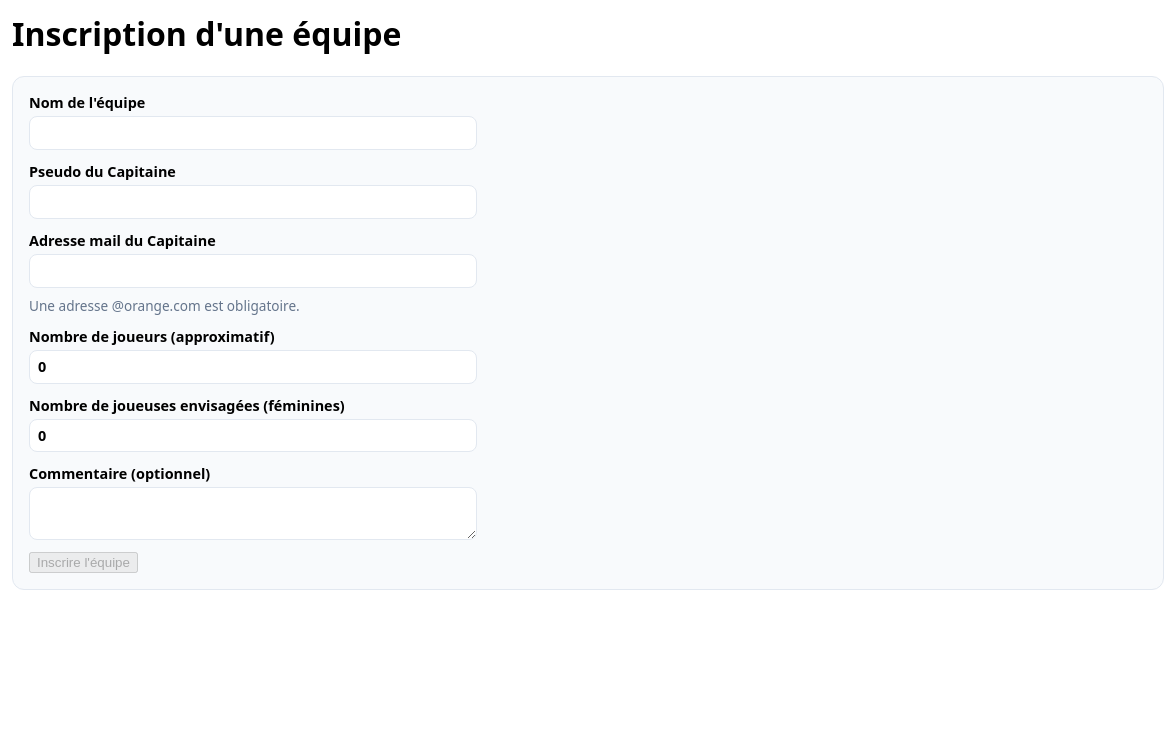
Test case: InscriptionEquipePage › affiche le message de confirmation après succès et ne propose plus de bouton "Inscrire une autre équipe"
Type "Logistique" into the field labelled "Nom de l'équipe".
click(253, 133); type("Logistique")  # box x1=29 y1=116 x2=477 y2=150
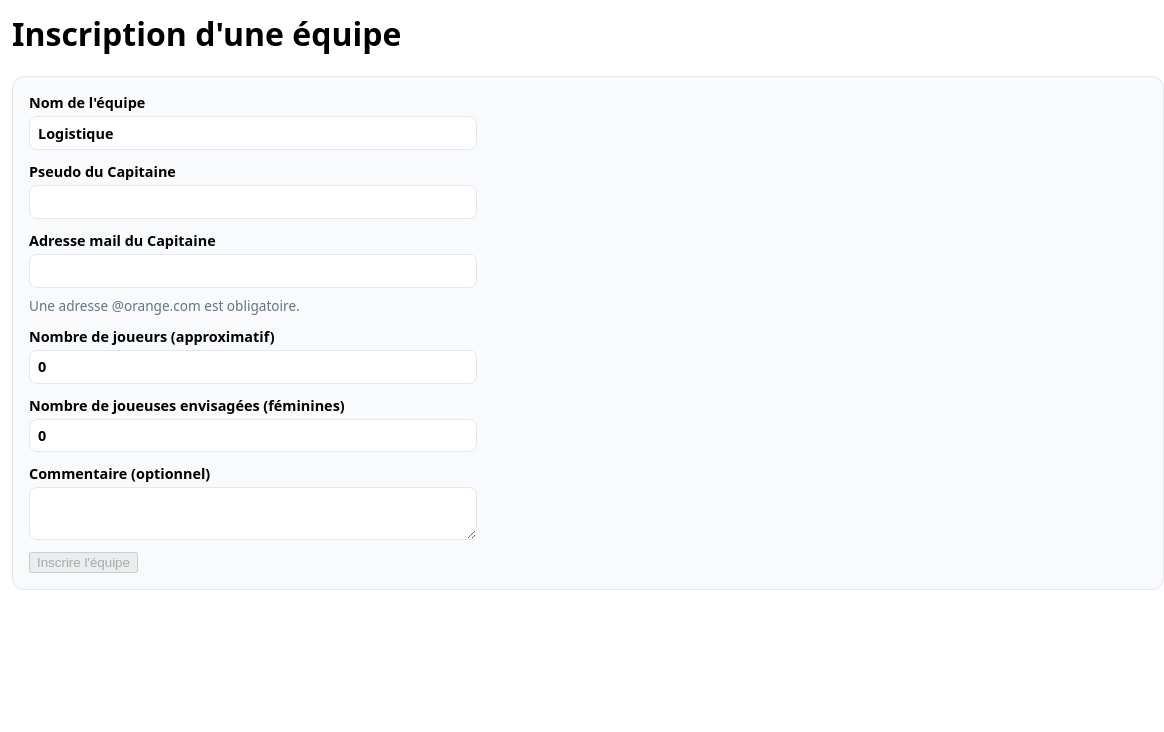
Type "CapiLogistique" into the field labelled "Pseudo du Capitaine".
click(253, 202); type("CapiLogistique")  # box x1=29 y1=185 x2=477 y2=219
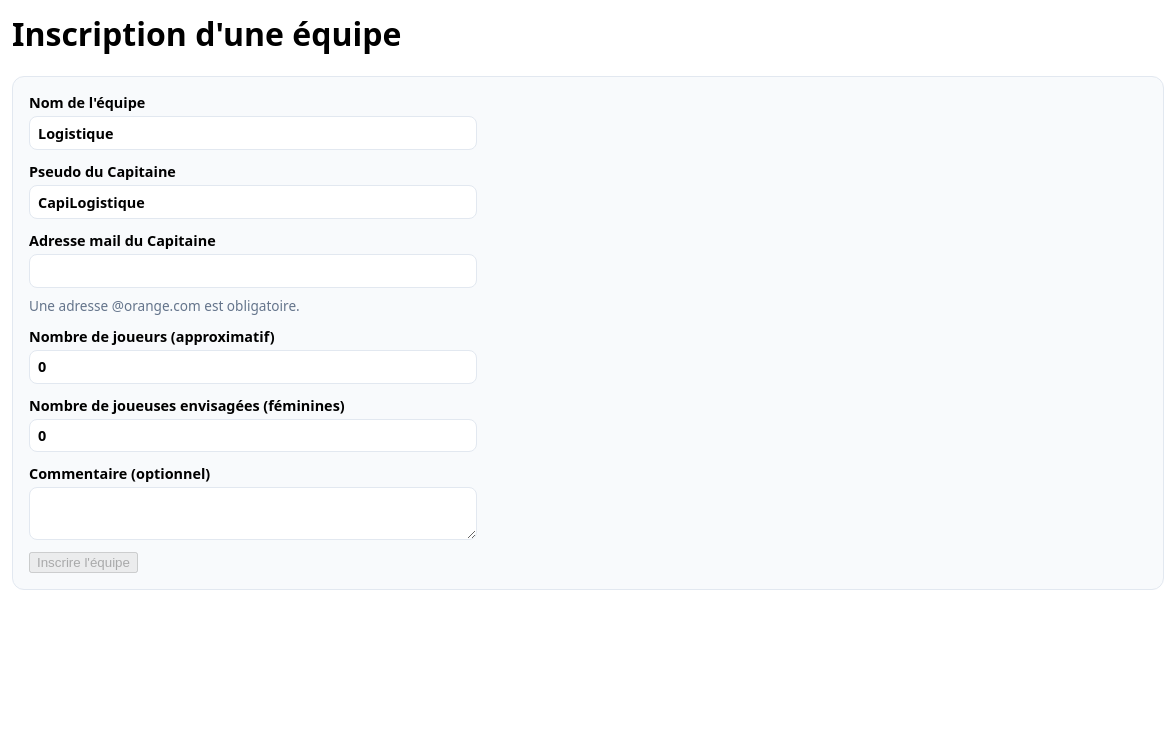
Type "capitaine@orange.com" into the field labelled "Adresse mail du Capitaine".
click(253, 271); type("capitaine@orange.com")  # box x1=29 y1=254 x2=477 y2=288
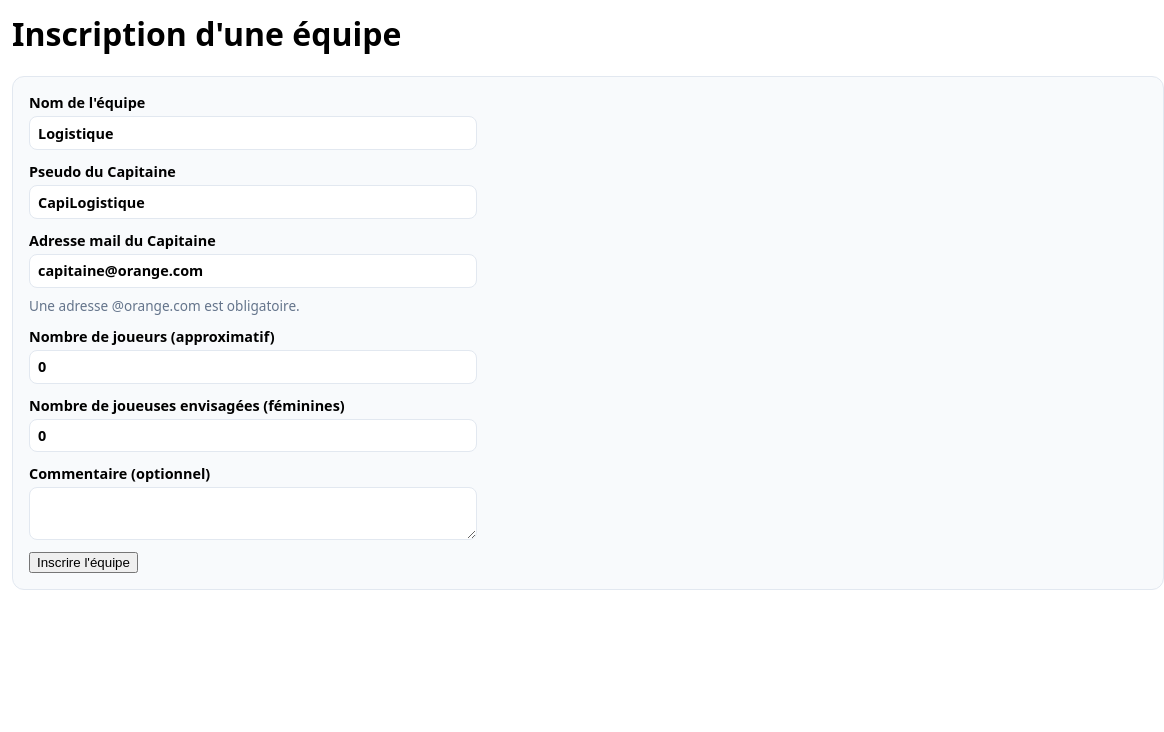
Click the button "Inscrire l'équipe".
click(83, 563)  # box x1=29 y1=552 x2=138 y2=573
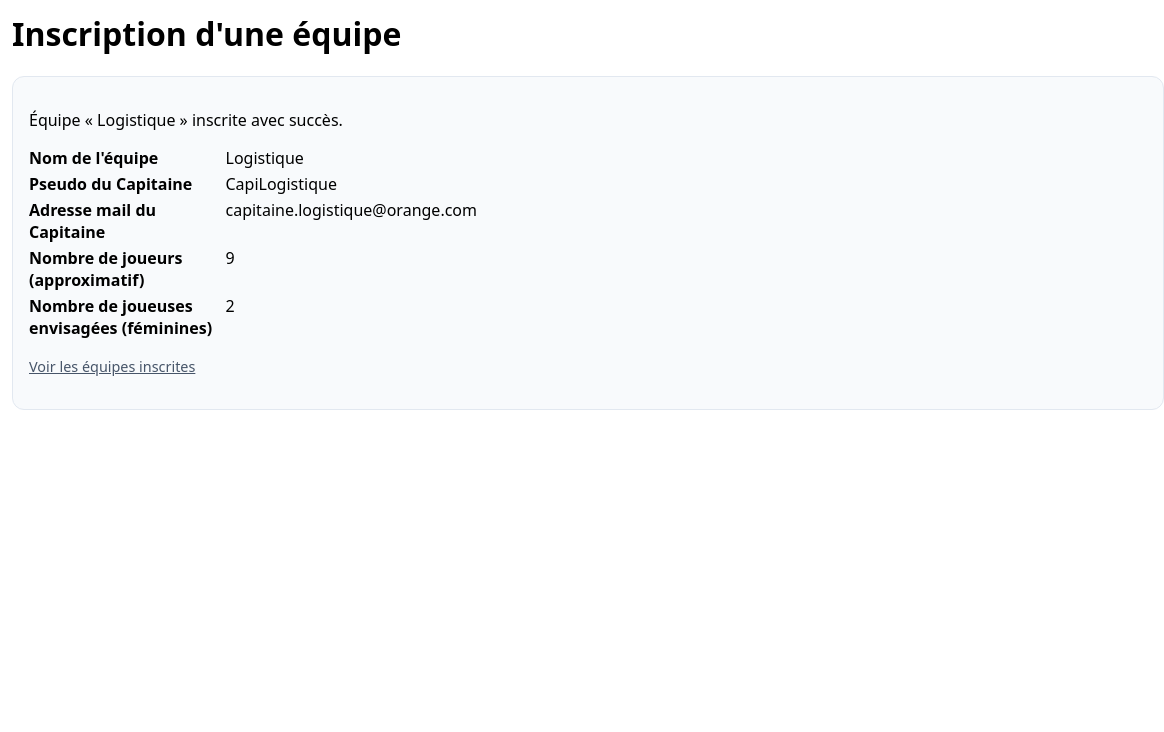
Expected: the text "Équipe « Logistique » inscrite avec succès." is shown, x1=29 y1=109 x2=343 y2=131
